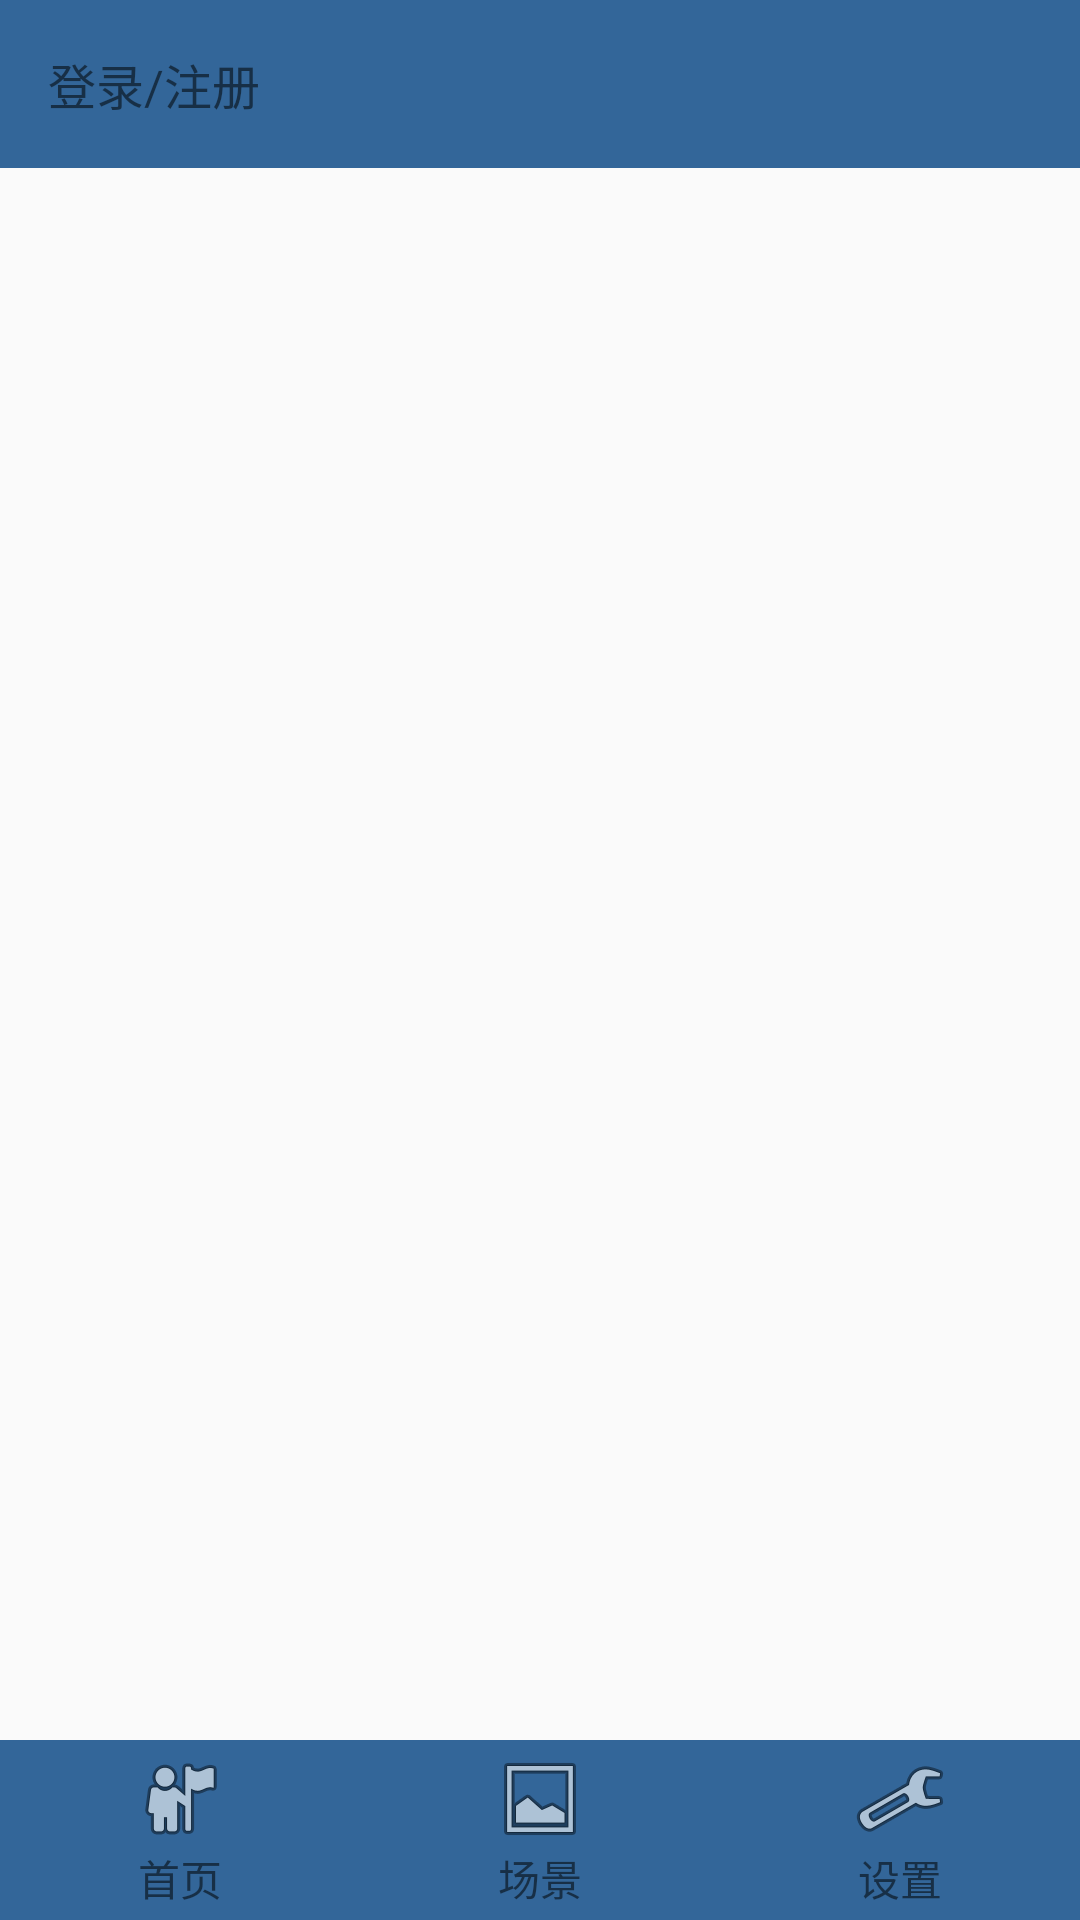

Icons on this 1080px×1920px Android screen, each with its box as region(x1, y1, x2, y2):
gallery: region(504, 1763, 576, 1835)
manage: region(857, 1766, 943, 1832)
myplaces: region(145, 1763, 217, 1835)
